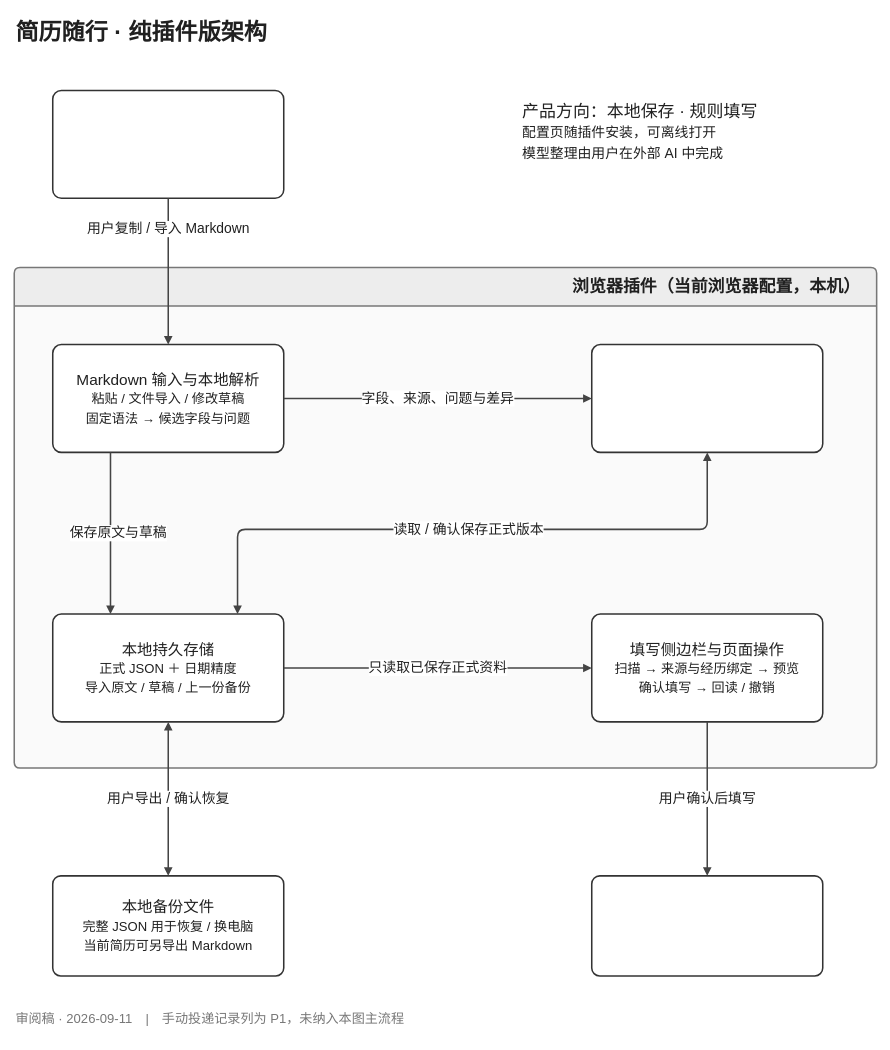
The diagram is 890 pixels wide and 1050 high, and some of its shapes have lost their labels. Here are the shapes that lost their labels. From the top down, the box of each, then its label:
(52, 89, 284, 199): 用户自己的 AI 自行上传 PDF / 简历文字 按提示词输出固定模板 Markdown
(591, 343, 823, 453): 差异预览与资料编辑 核对导入内容，修正问题 普通表单维护，显式保存正式资料
(591, 875, 823, 976): 招聘网页 仅填写用户确认的选中字段 最终申请由用户自行提交
